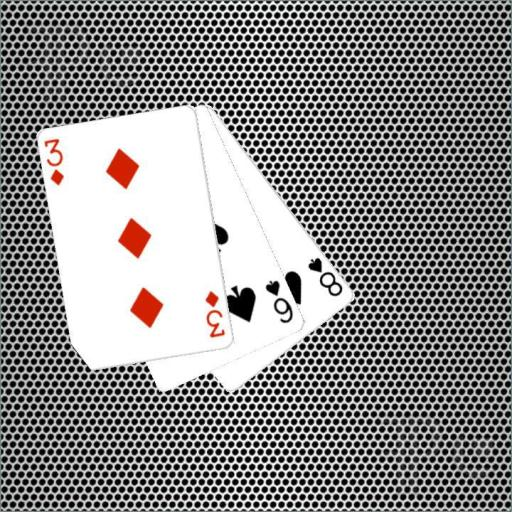3D: (203, 287, 228, 340), (42, 136, 66, 188)
6S: (263, 277, 295, 325)
8S: (304, 254, 345, 299)
